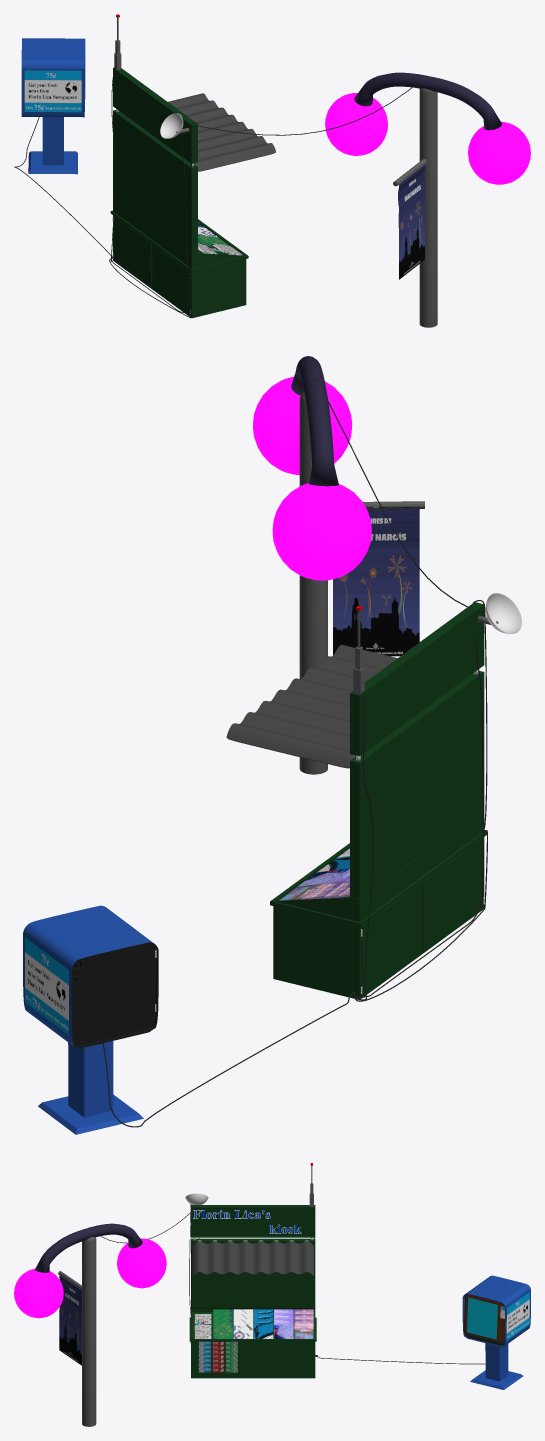
File: cubes_Export_Blend.glb
The picture shows the model from 3 angles, top to bottom: view 1: azimuth 30°, elevation 25°; view 2: azimuth 150°, elevation 25°; view 3: azimuth 270°, elevation 25°; orthographic projection. The views are drawn at different scales.
Visible parts, largest first — view 1: NewsPaperStand, Sphere, Cube.002, NewsPaperStandCover, Cylinder.042, NewsPaperStand.001, Plane.016, Plane.014, Cylinder.043, BézierCurve, Sphere.001, BézierCurve.003; view 2: NewsPaperStand, Cube.002, Sphere, NewsPaperStandCover, NewsPaperStand.001, Plane.016, Plane.017, Cylinder.042, Cylinder.043, Plane.015, BézierCurve, Sphere.001; view 3: NewsPaperStand, Cube.002, NewsPaperStand.001, NewsPaperStandCover, Sphere, Cylinder.042, Plane.016, Cylinder.043, Plane.015, Plane.008, Plane.005, Plane.006 (+2 smaller).
Boxes of the visible parts, <box> form: NewsPaperStand: <box>110,110,248,318</box>; Sphere: <box>325,93,530,184</box>; Cube.002: <box>21,38,85,174</box>; NewsPaperStandCover: <box>168,93,275,171</box>; Cylinder.042: <box>419,88,437,327</box>; NewsPaperStand.001: <box>113,67,197,163</box>; Plane.016: <box>398,165,425,279</box>; Plane.014: <box>24,70,81,112</box>; Cylinder.043: <box>354,72,502,130</box>; BézierCurve: <box>109,75,426,317</box>; Sphere.001: <box>160,113,183,138</box>; BézierCurve.003: <box>111,133,188,312</box>; NewsPaperStand: <box>270,671,486,999</box>; Cube.002: <box>23,905,158,1134</box>; Sphere: <box>253,376,371,580</box>; NewsPaperStandCover: <box>226,644,397,768</box>; NewsPaperStand.001: <box>350,602,484,756</box>; Plane.016: <box>333,510,419,656</box>; Plane.017: <box>333,507,419,656</box>; Cylinder.042: <box>299,392,327,774</box>; Cylinder.043: <box>291,356,338,486</box>; Plane.015: <box>25,937,68,1035</box>; BézierCurve: <box>315,377,487,1001</box>; Sphere.001: <box>485,593,521,633</box>; NewsPaperStand: <box>189,1238,316,1378</box>; Cube.002: <box>462,1275,530,1389</box>; NewsPaperStand.001: <box>191,1205,315,1237</box>; NewsPaperStandCover: <box>192,1241,313,1275</box>; Sphere: <box>14,1238,166,1318</box>; Cylinder.042: <box>82,1237,96,1426</box>; Plane.016: <box>59,1275,81,1365</box>; Cylinder.043: <box>35,1223,142,1272</box>; Plane.015: <box>506,1292,529,1340</box>; Plane.008: <box>233,1319,253,1338</box>; Plane.005: <box>294,1319,313,1338</box>; Plane.006: <box>274,1319,293,1338</box>.
Size of what is drawn, in the model's own units: 9.65 by 8.7 by 20.75.
Materials: 27 (12 with a texture image).
